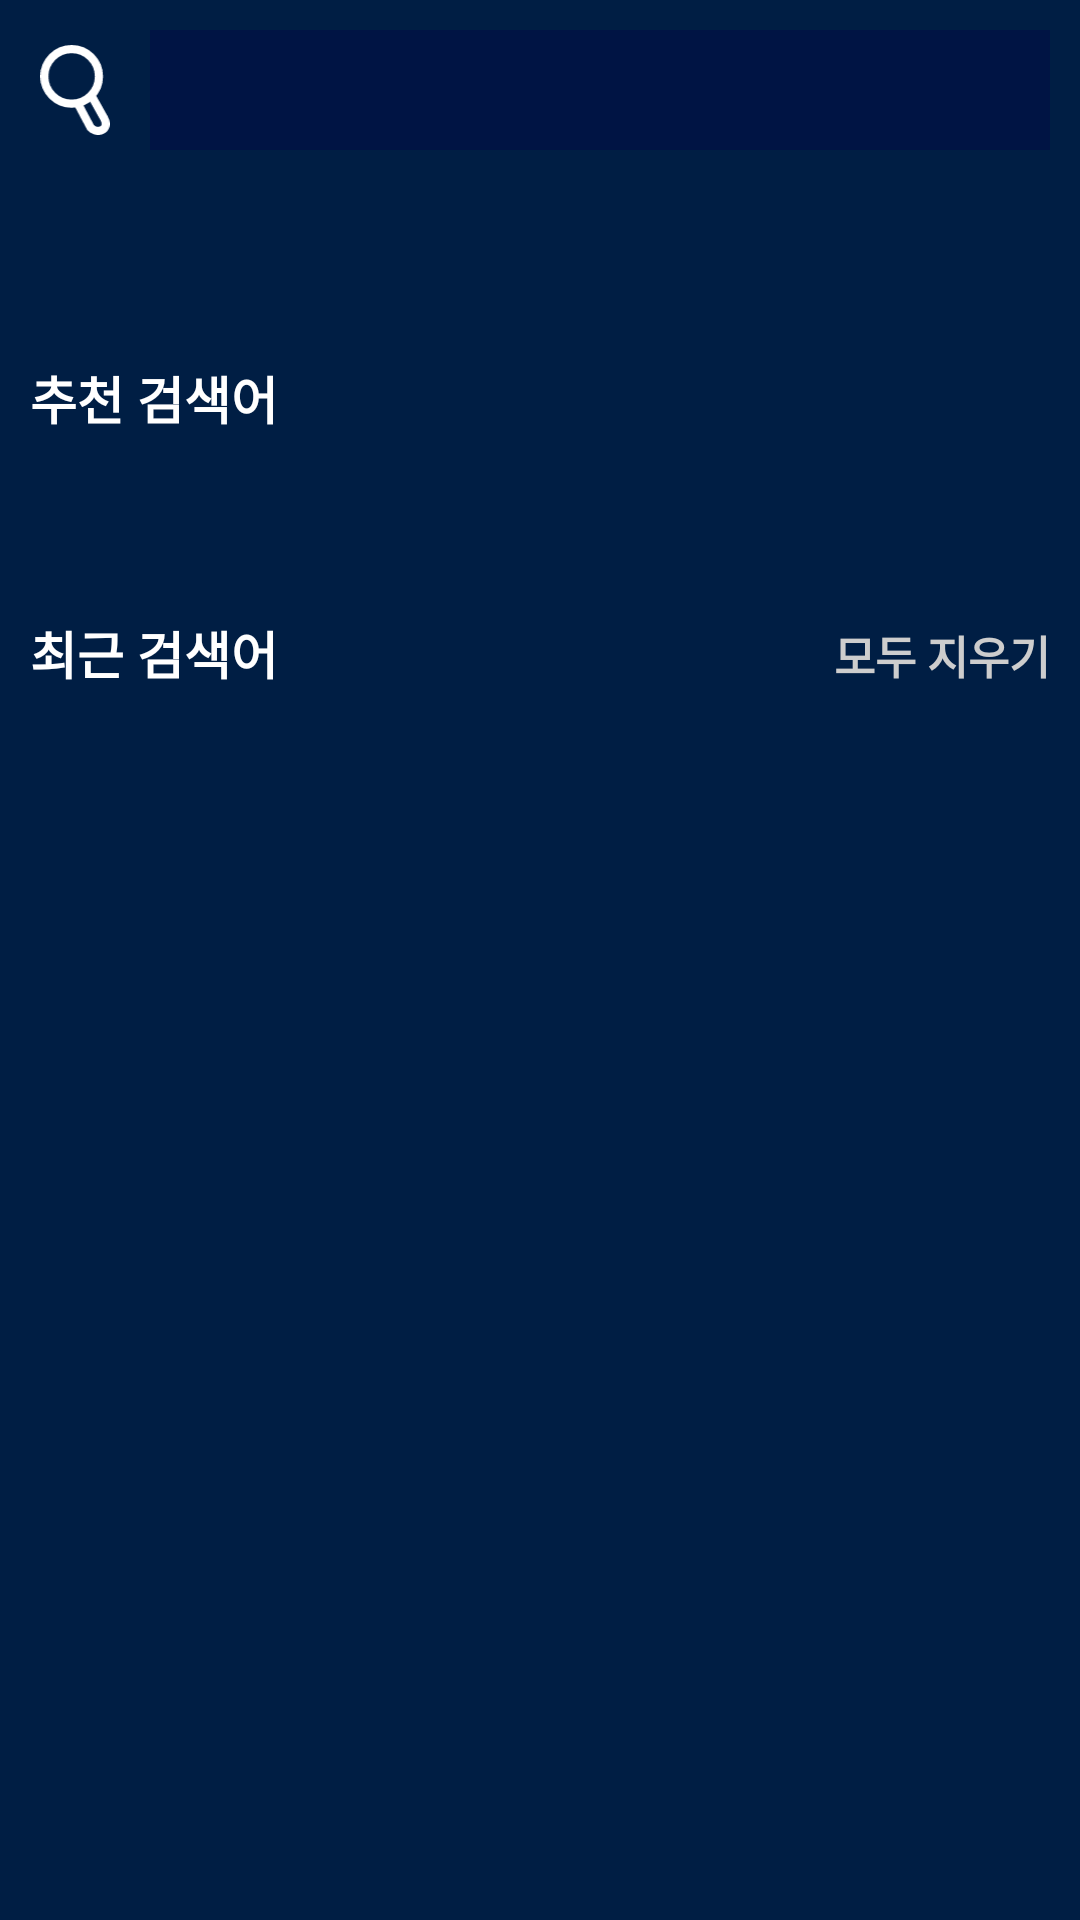

Locate icon controls on the screen. Image size 1080 × 1920, boxes as (x1, y1, x2, y2).
search: (40, 45, 110, 135)
